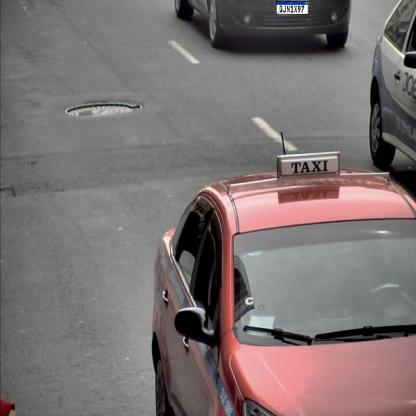PlacaM: (276, 0, 308, 14)
